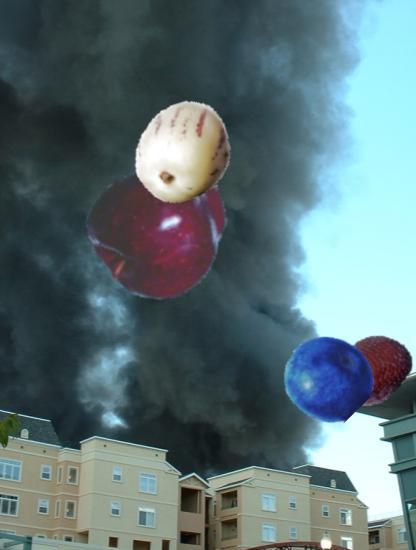Apple: (90, 157, 233, 300)
Huckleberry: (284, 335, 371, 422)
Pepino: (131, 102, 233, 204)
Salak: (333, 330, 413, 410)
